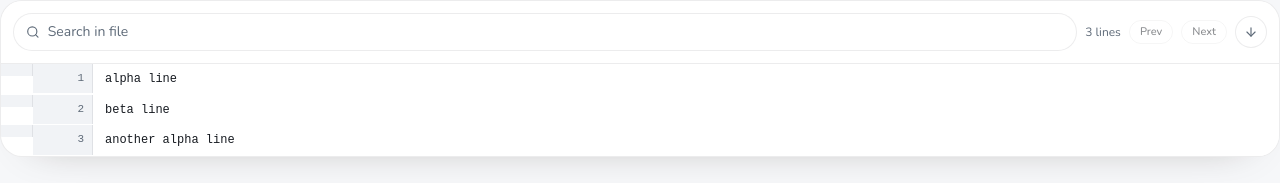
Scenario: CodeLinesView › supports in-file search navigation
In the field with placeholder "Search in file": point(556, 32) [48,22,1064,42], type "alpha"
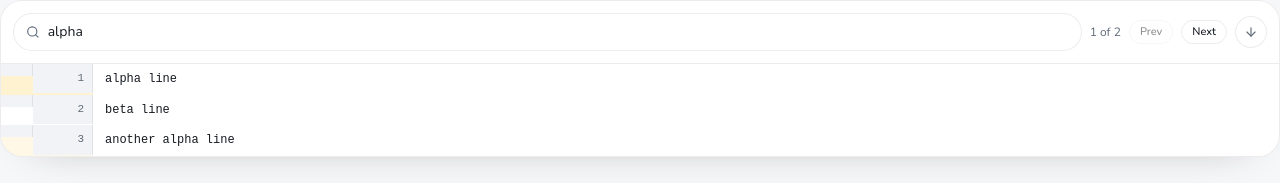
Expected: the text "1 of 2" is shown, [1090,24,1121,40]
Click the button "Next": point(1204, 32) [1181,20,1227,44]
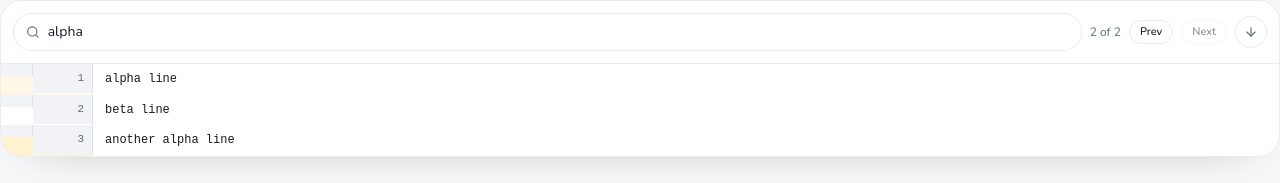
Expected: the text "2 of 2" is shown, [1090,24,1121,40]
Click the button "Prev": point(1151, 32) [1129,20,1173,44]
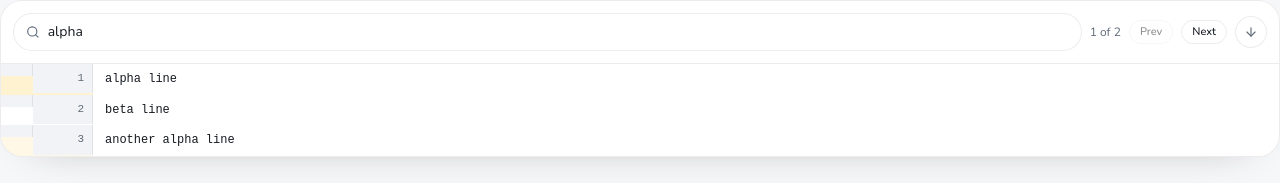
Expected: the text "1 of 2" is shown, [1090,24,1121,40]
